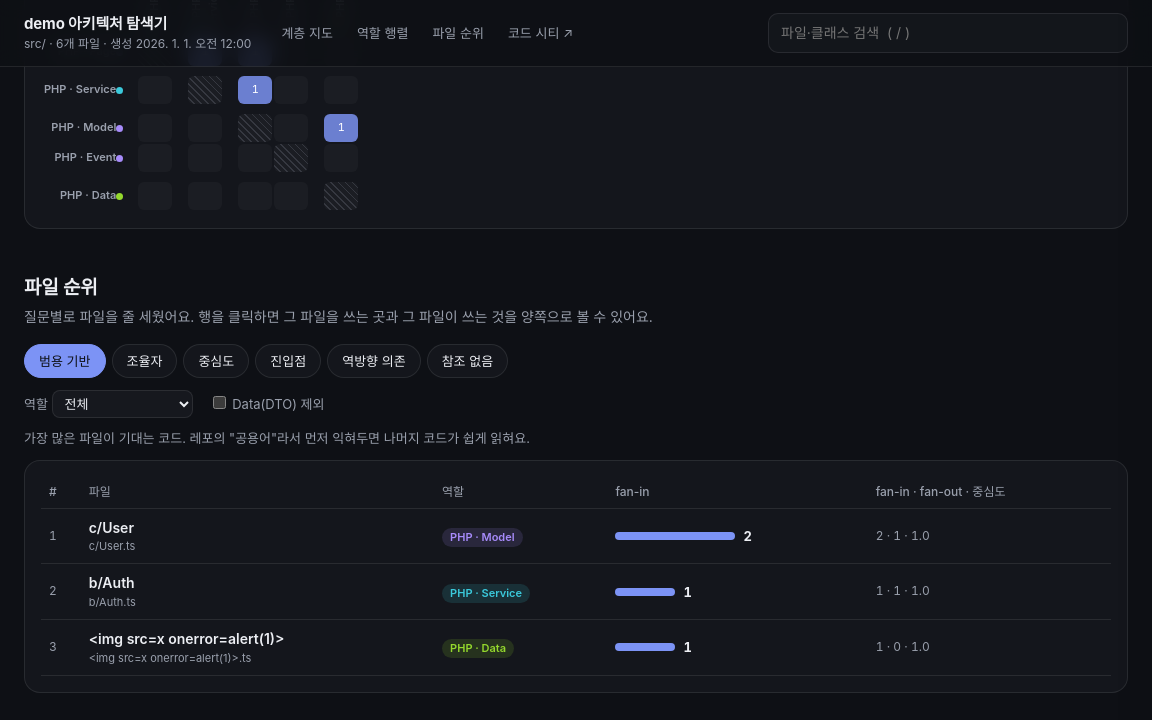
Test: explorer › orphan ranking skips events in a merged city
(page scrolled)
Click the button "참조 없음".
click(467, 361)  # box [427,344,508,378]
(page scrolled)
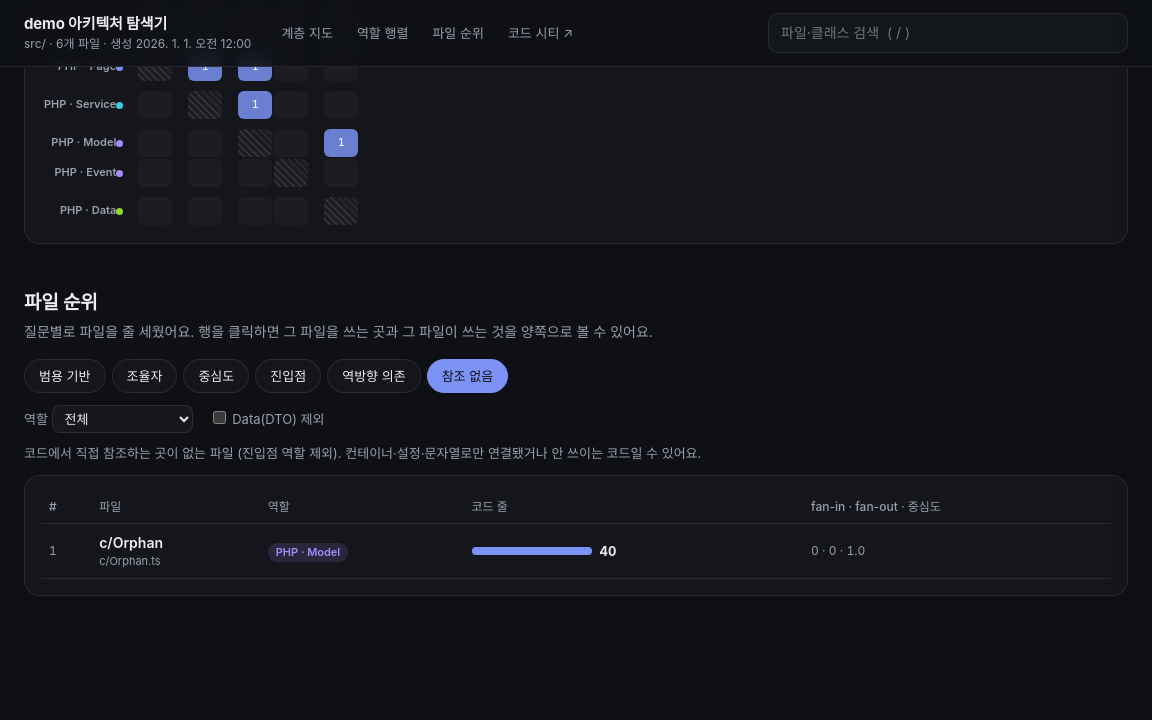
Check: the table "1 c/Orphan c/Orphan.ts PHP · Model 40 0 · 0 · 1.0" is shown, box [41,523,1111,579]
